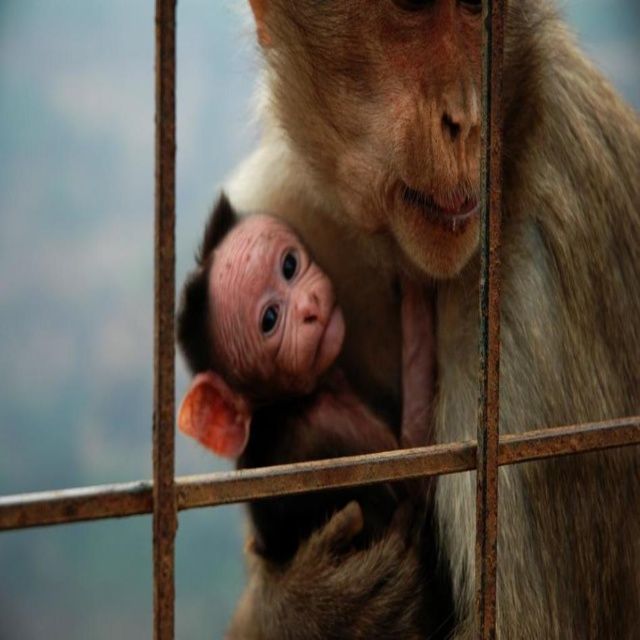Monkey: (216, 0, 640, 640), (177, 189, 456, 640)
